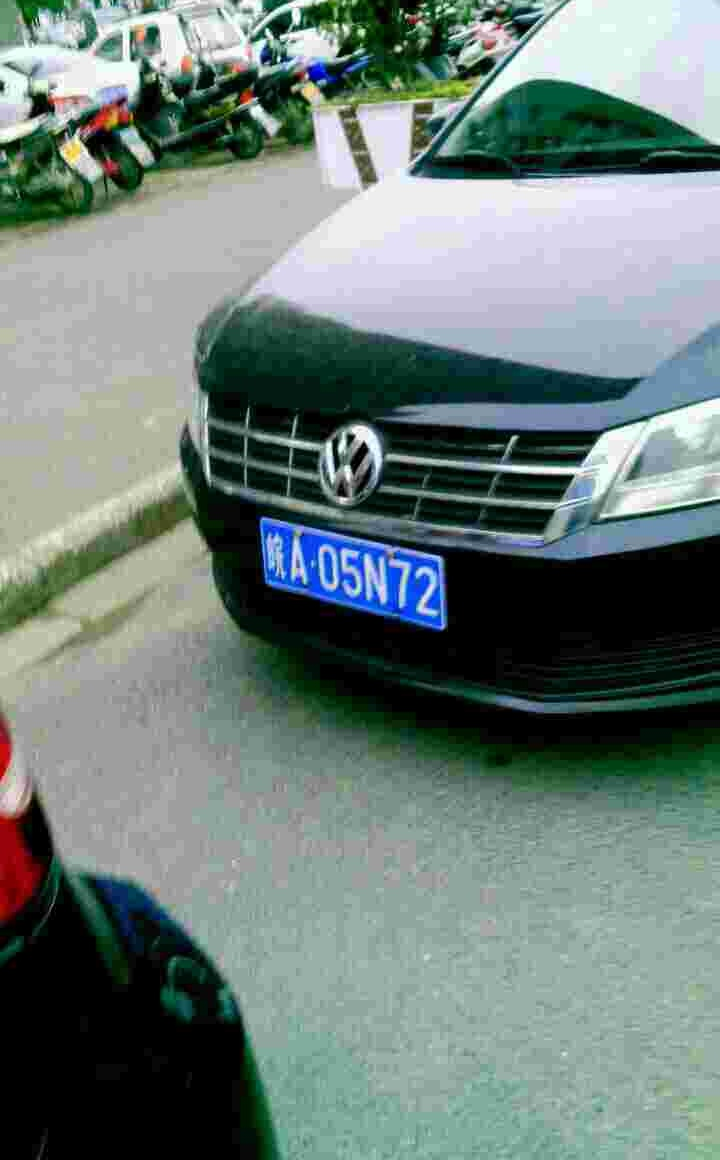car: (254, 518, 457, 625)
